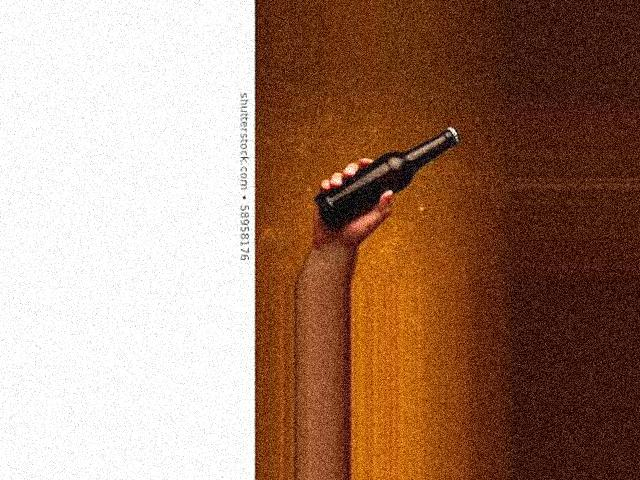beer: (314, 125, 460, 233)
